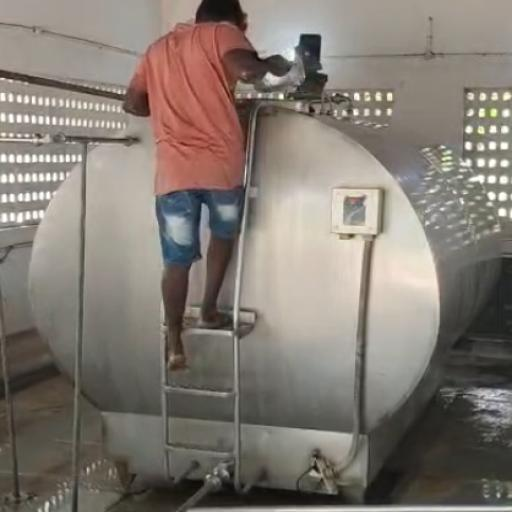silo: (25, 99, 504, 494)
vessel: (252, 60, 307, 94)
